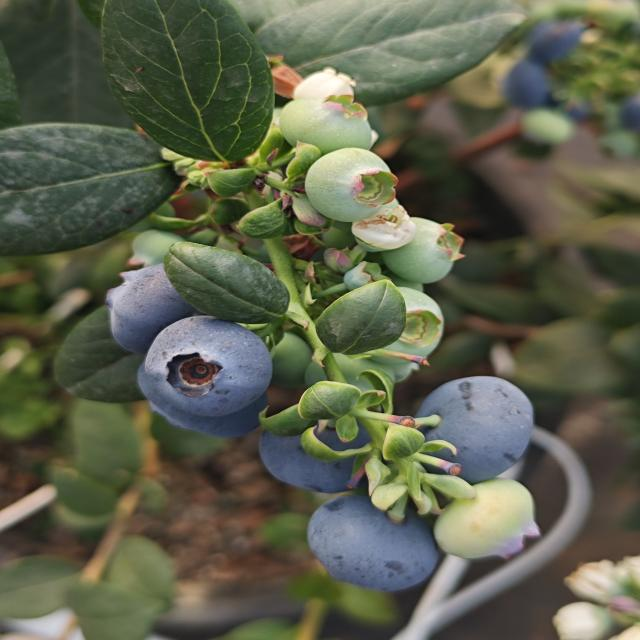ripe: (134, 314, 276, 438), (304, 491, 441, 594), (410, 374, 537, 485), (249, 425, 345, 494), (106, 268, 178, 338)
